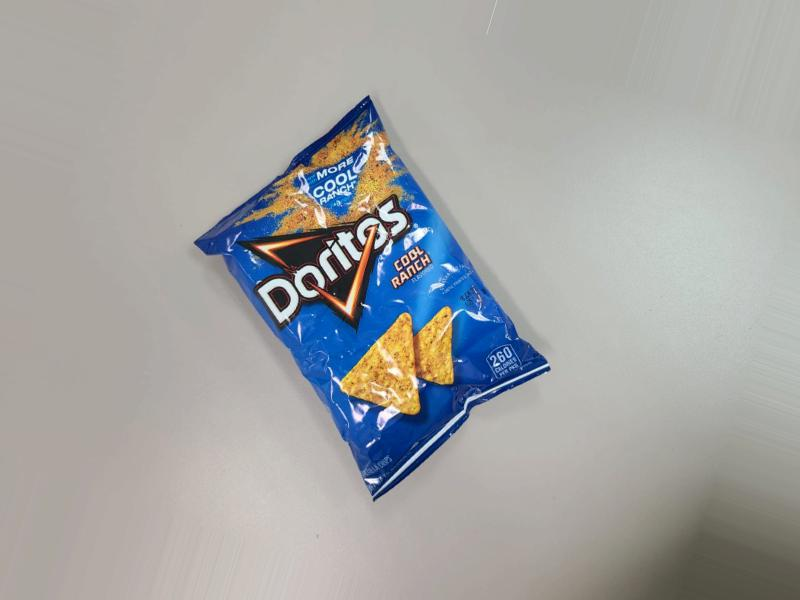doritos: (193, 66, 549, 516)
